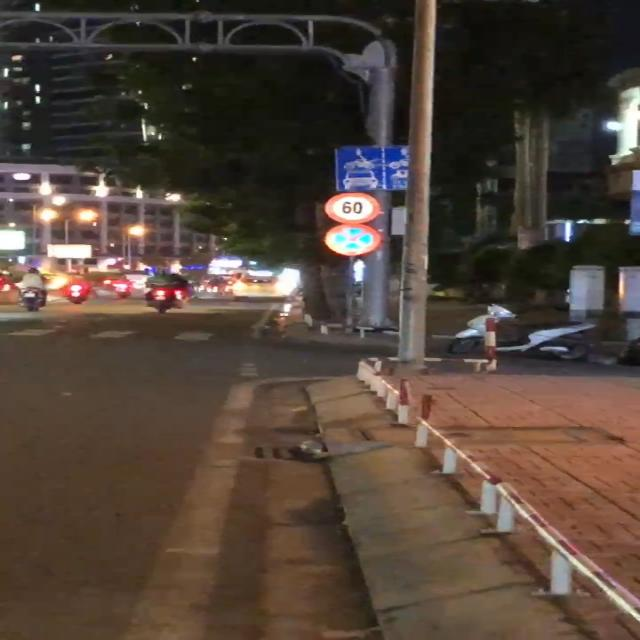Bien bao cam dung xe va do xe: (317, 224, 386, 255)
Bien bao toc do toi da cho phep: (321, 190, 382, 224)
